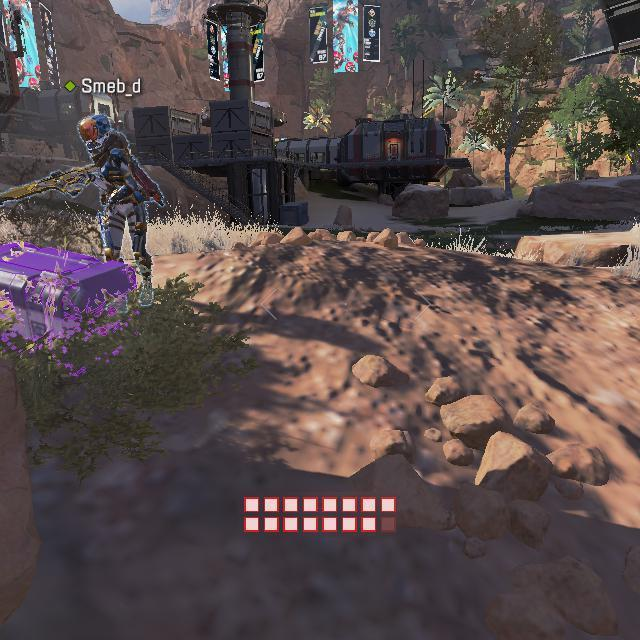avatar: (77, 111, 156, 308)
